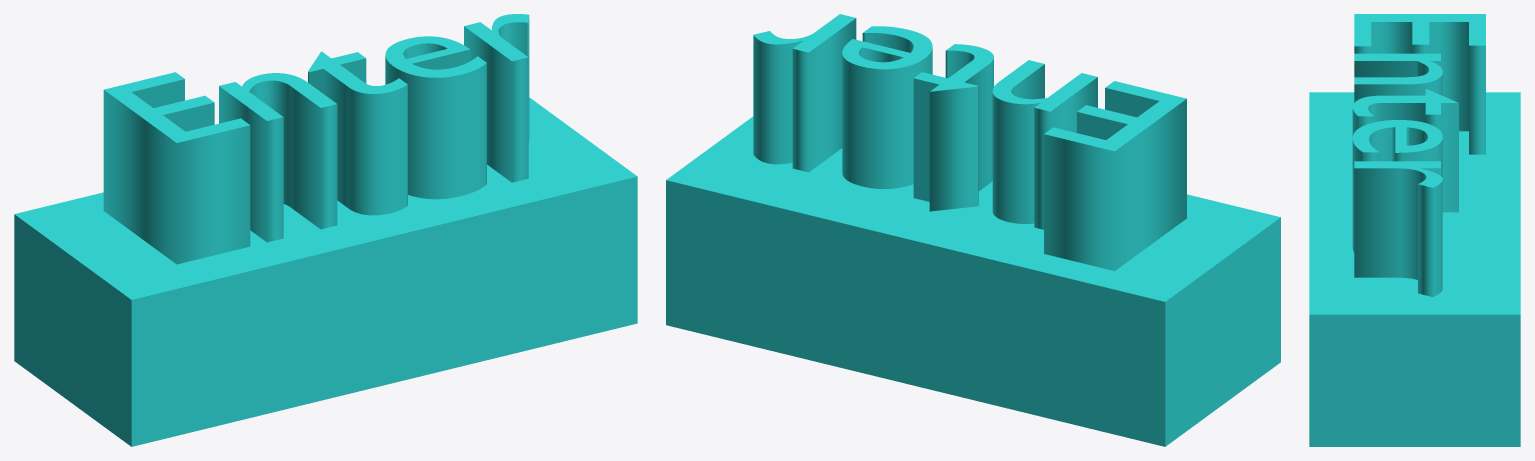
File: blue enter1.glb
3 views of the same model, side by side, from view 1: azimuth 30°, elevation 25°; view 2: azimuth 150°, elevation 25°; view 3: azimuth 270°, elevation 25° (orthographic). The views are drawn at different scales.
Parts seen in each view (by area): view 1: Cube, Text; view 2: Cube, Text; view 3: Cube, Text.
Boxes of the visible parts, x1=… form: Cube: x1=14, y1=97, x2=637, y2=446; Text: x1=103, y1=14, x2=529, y2=264; Cube: x1=666, y1=116, x2=1280, y2=446; Text: x1=753, y1=14, x2=1186, y2=270; Cube: x1=1309, y1=92, x2=1520, y2=446; Text: x1=1352, y1=14, x2=1485, y2=296.
Size of the model in its own units: 2.73 by 1.38 by 1.09.
